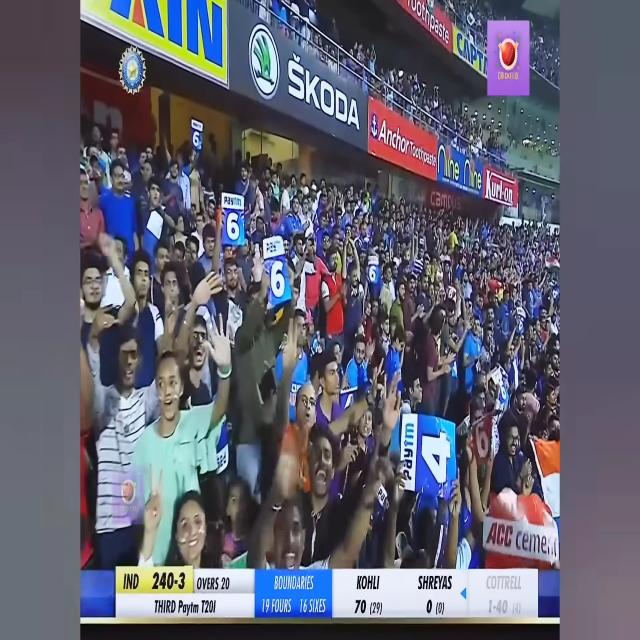fully_visible: (177, 593, 200, 620), (222, 188, 243, 210)
partially_visible: (401, 409, 415, 487)
